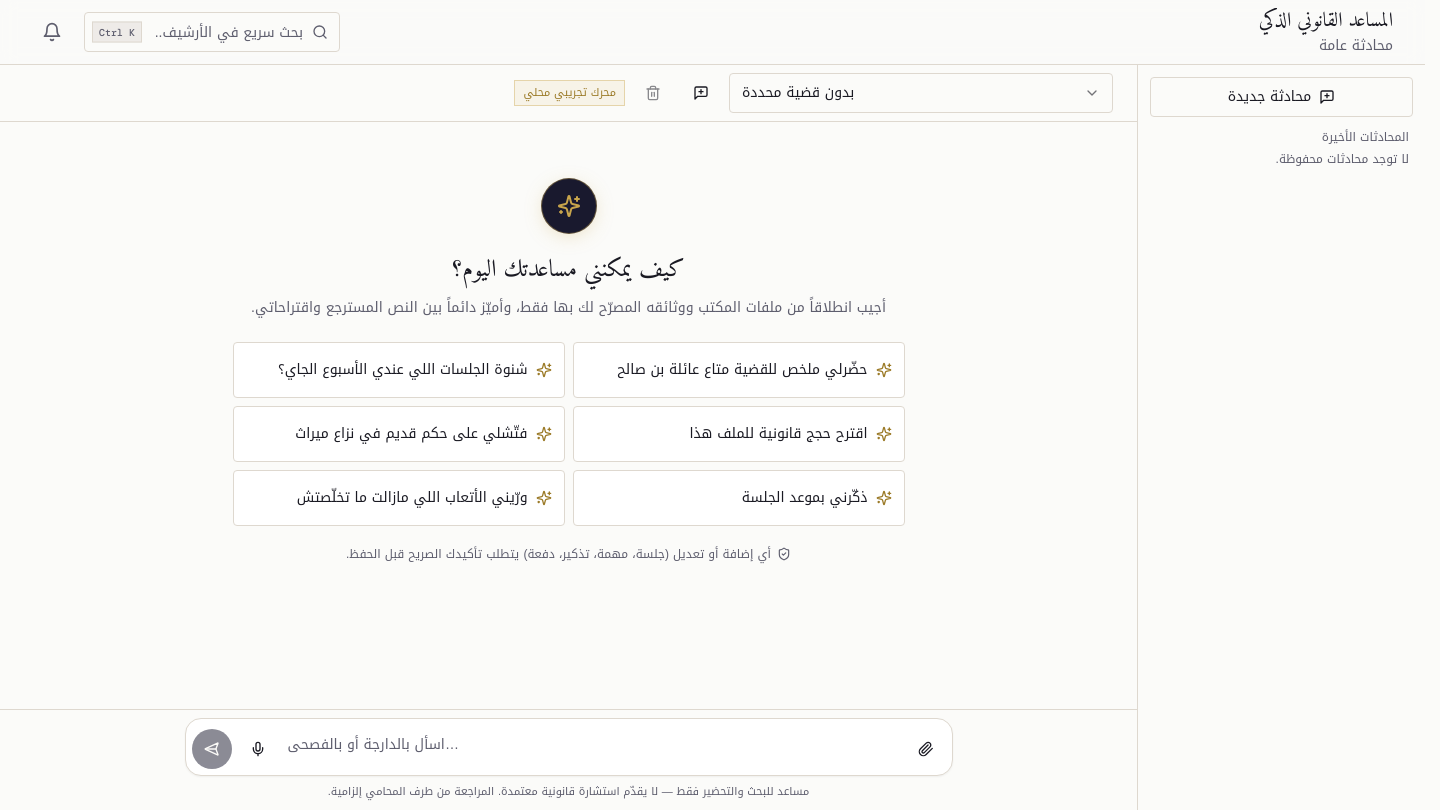
Scenario: assistant conversation › keeps confirmation disabled while required fields are missing
The image size is (1440, 810).
Type "سجّللي جلسة نهار 11 نوفمبر مع ملف عائلة بن صالح" into the text box named "اكتب رسالتك للمساعد" at (592, 747), box [284, 725, 900, 769]
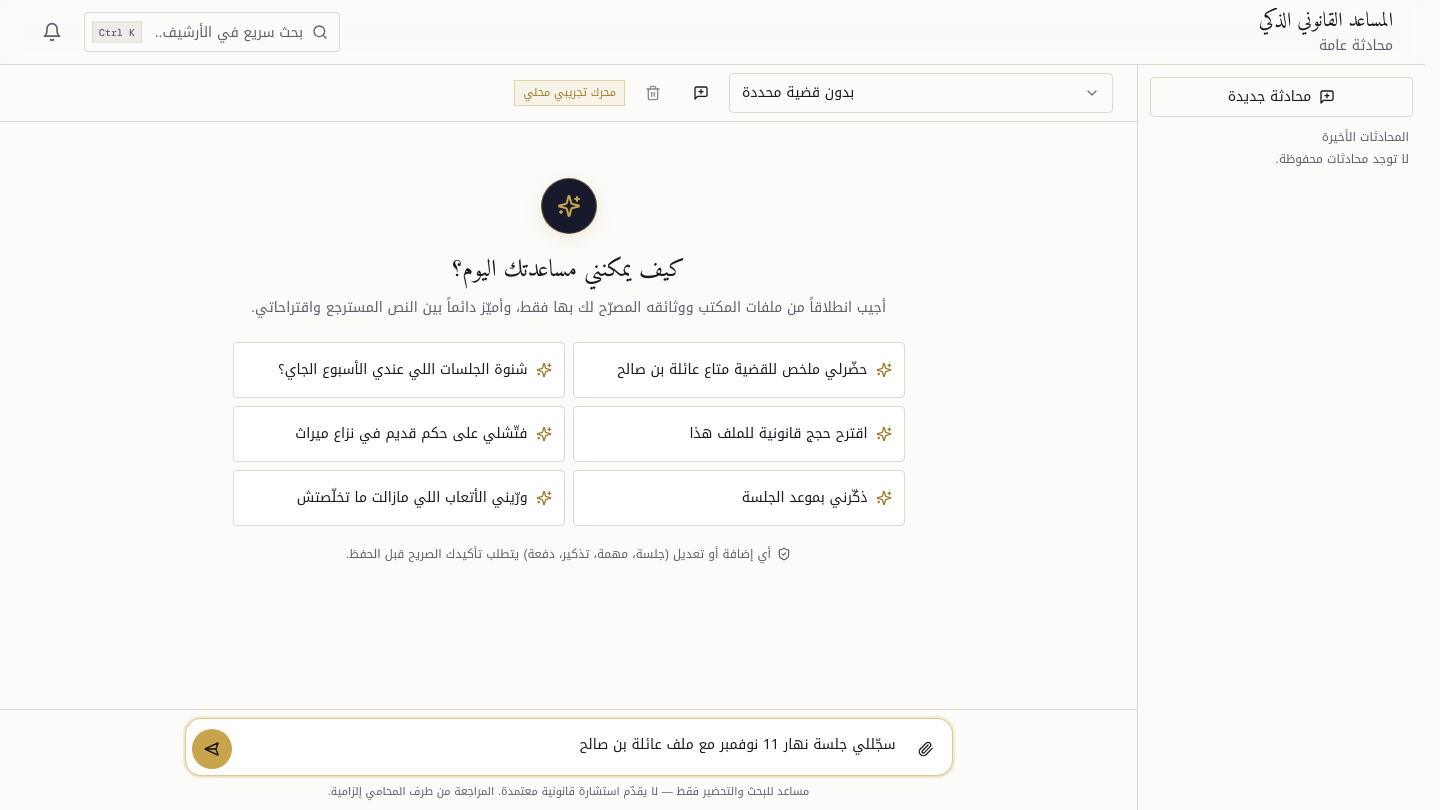
Click the button named "إرسال" at (212, 749), box [192, 729, 232, 769]
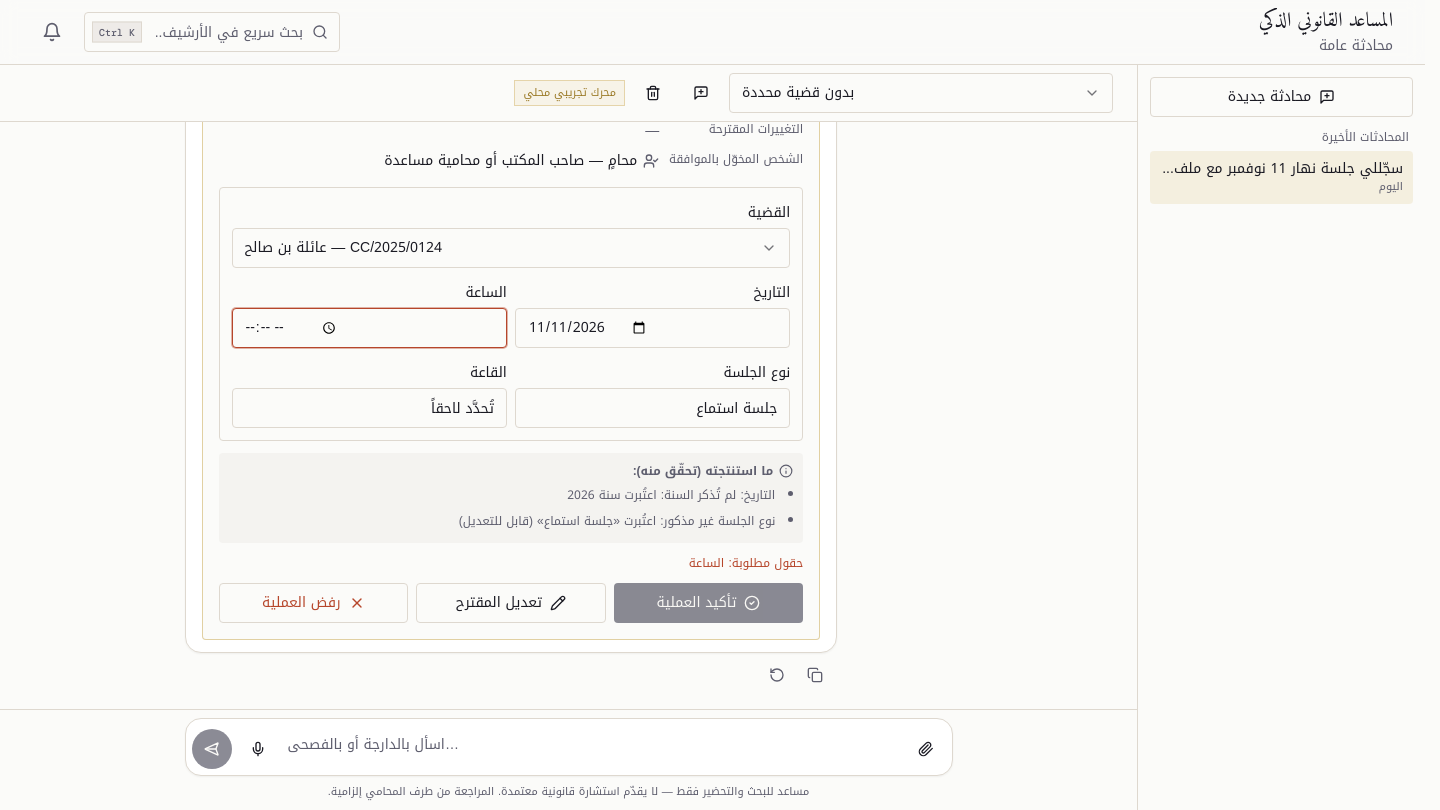
Expected: the button "تأكيد العملية" is disabled, [614, 583, 803, 623]
Expected: the text "حقول مطلوبة: الساعة" is shown, [689, 552, 803, 574]
